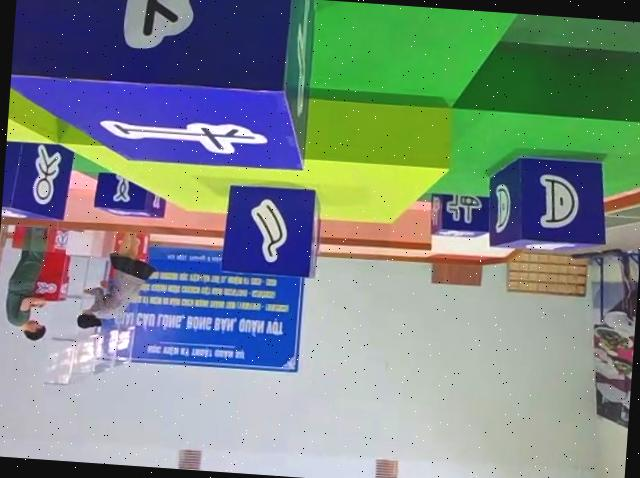R2 Real Blue: (5, 0, 317, 176), (484, 151, 610, 254), (222, 181, 326, 279), (1, 138, 72, 220), (94, 169, 169, 217), (428, 190, 493, 237)
